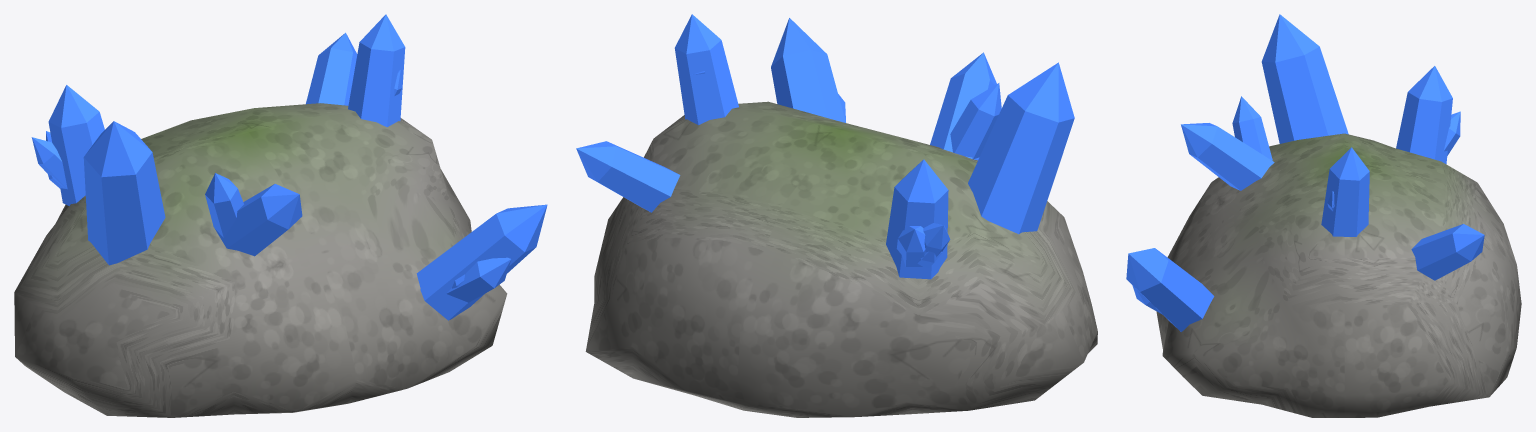
File: ore_sapphire_boulder.glb
3 renders of one model, left to right at view 1: azimuth 30°, elevation 25°; view 2: azimuth 150°, elevation 25°; view 3: azimuth 270°, elevation 25°, orthographic. The views are drawn at different scales.
Visible parts, largest first — view 1: ore_sapphire_stone, ore_sapphire; view 2: ore_sapphire_stone, ore_sapphire; view 3: ore_sapphire_stone, ore_sapphire.
Boxes of the visible parts, <box> form: ore_sapphire_stone: <box>14,103,507,417</box>; ore_sapphire: <box>31,14,547,320</box>; ore_sapphire_stone: <box>585,101,1097,417</box>; ore_sapphire: <box>576,14,1074,279</box>; ore_sapphire_stone: <box>1156,133,1521,417</box>; ore_sapphire: <box>1126,14,1484,331</box>.
Bounding box in the file's own units: 2.3 × 1.41 × 2.01.
2 materials, 1 textured.
